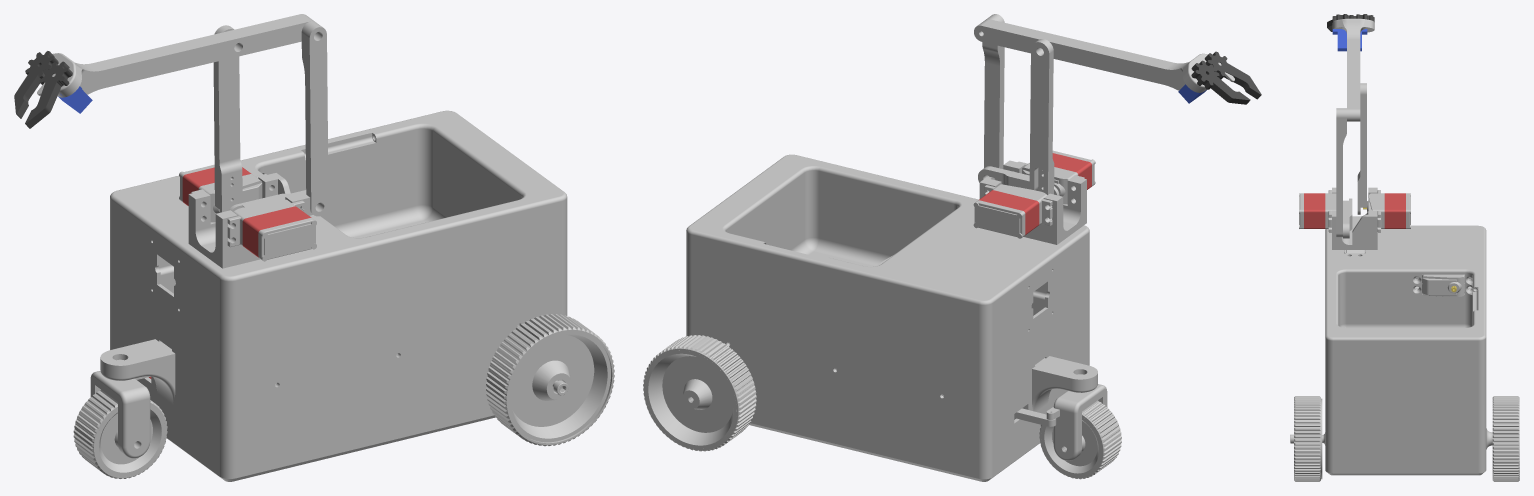
Rendered from WALLE v23.glb.
3 renders of one model, left to right at view 1: azimuth 30°, elevation 25°; view 2: azimuth 150°, elevation 25°; view 3: azimuth 270°, elevation 25°, orthographic. The views are drawn at different scales.
Visible parts, largest first — view 1: Body1.016, Body1.004, Body1.012, Body1.003, Body1, Body1.011, Body1.024, Body1.028, Body1.021, Body1.027, Body1.002, Body1.023 (+4 smaller); view 2: Body1.016, Body1.004, Body1.018, Body1.003, Body1.028, Body1.020, Body1.022, Body1, Body1.021, Body1.027, Body1.002, Body1.023 (+5 smaller); view 3: Body1.016, Body1.004, Body1.020, Body1.011, Body1.003, Body1.021, Body1.022, Body1.024, Body1, Body1.019, Body1.028, Body1.026.
Part boxes in pixels (x1,y1,x2,y2): Body1.016: (110, 110, 567, 386); Body1.004: (110, 303, 567, 481); Body1.012: (508, 331, 610, 442); Body1.003: (52, 14, 314, 97); Body1: (301, 21, 328, 216); Body1.011: (486, 314, 614, 446); Body1.024: (227, 199, 316, 261); Body1.028: (213, 25, 242, 212); Body1.021: (188, 173, 310, 268); Body1.027: (90, 370, 150, 458); Body1.002: (100, 339, 175, 404); Body1.023: (95, 405, 165, 476); Body1.016: (686, 154, 1089, 397); Body1.004: (686, 324, 1089, 481); Body1.018: (645, 350, 736, 448); Body1.003: (974, 19, 1207, 92); Body1.028: (1029, 39, 1054, 194); Body1.020: (643, 335, 756, 451); Body1.022: (973, 184, 1052, 238); Body1: (982, 14, 1004, 176); Body1.021: (979, 160, 1086, 244); Body1.027: (1046, 384, 1107, 460); Body1.002: (1032, 356, 1097, 411); Body1.023: (1041, 417, 1101, 476); Body1.016: (1325, 225, 1486, 411); Body1.004: (1322, 408, 1492, 475); Body1.020: (1492, 396, 1519, 481); Body1.011: (1294, 396, 1320, 481); Body1.003: (1332, 18, 1374, 121); Body1.021: (1332, 187, 1377, 249); Body1.022: (1363, 190, 1410, 232); Body1.024: (1299, 190, 1336, 232); Body1: (1336, 108, 1346, 237); Body1.019: (1415, 274, 1472, 296); Body1.028: (1357, 83, 1366, 214); Body1.026: (1343, 198, 1352, 238).
Bounding box in the file's own units: 0.4126 × 0.3275 × 0.2169.
